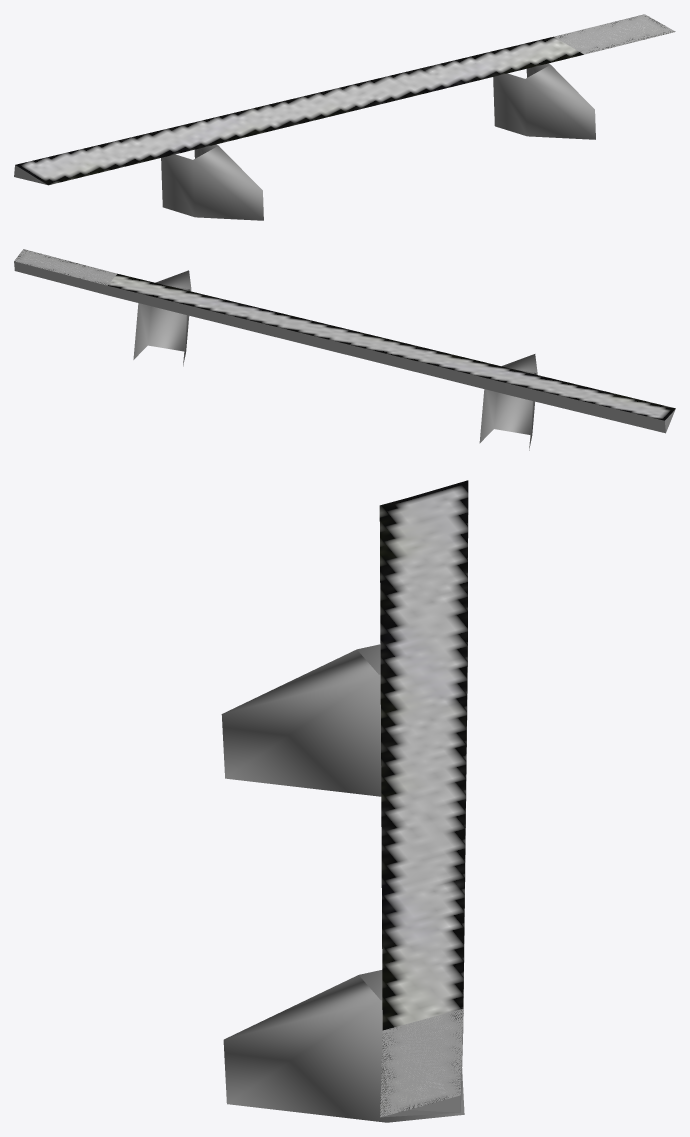
File: rightOuterSubFlaps.dae
3 renders of one model, top to bottom at view 1: azimuth 30°, elevation 25°; view 2: azimuth 150°, elevation 25°; view 3: azimuth 270°, elevation 25°, orthographic. The views are drawn at different scales.
Visible parts, largest first — view 1: SketchUp (×4); view 2: SketchUp (×5); view 3: SketchUp (×5).
Part boxes in pixels (x1,y1,x2,y2): SketchUp (×4): (15,14,675,220); SketchUp (×5): (14,249,675,450); SketchUp (×5): (221,480,468,1122).
Bounding box in the file's own units: 200 × 33.29 × 21.25.
4 materials, 1 textured.
